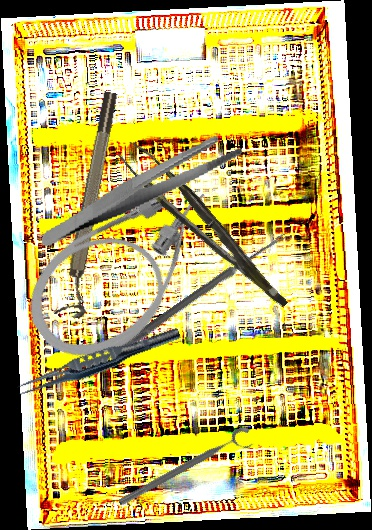Cannula: (7, 162, 249, 382)
Dressing Forceps: (26, 131, 255, 248)
Fixation Ring: (52, 90, 132, 320), (115, 424, 258, 517)
Surgical Spoon: (114, 230, 288, 356)
Tissue Forceps: (117, 132, 289, 326), (14, 320, 183, 403)
